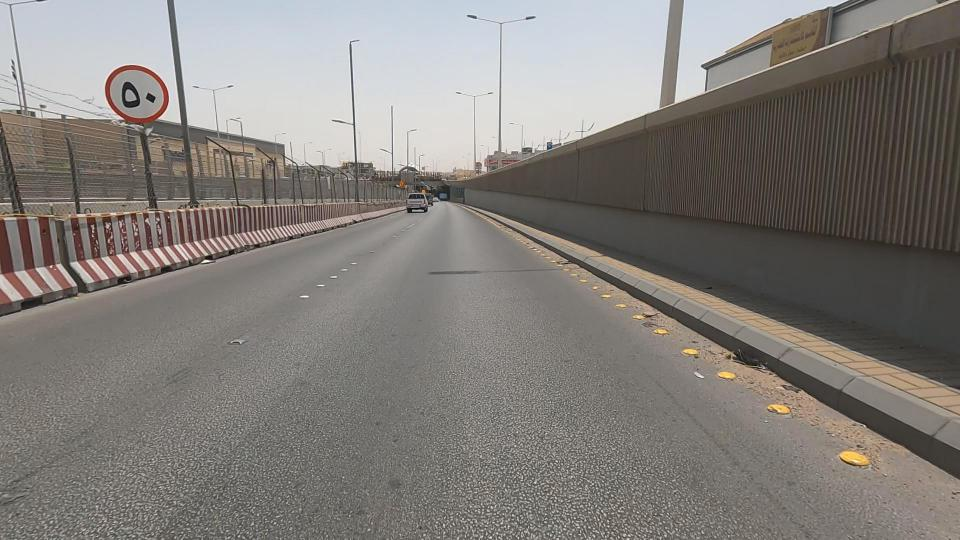CONSTRUCTION_ROAD: (0, 73, 352, 274), (261, 144, 438, 240)
